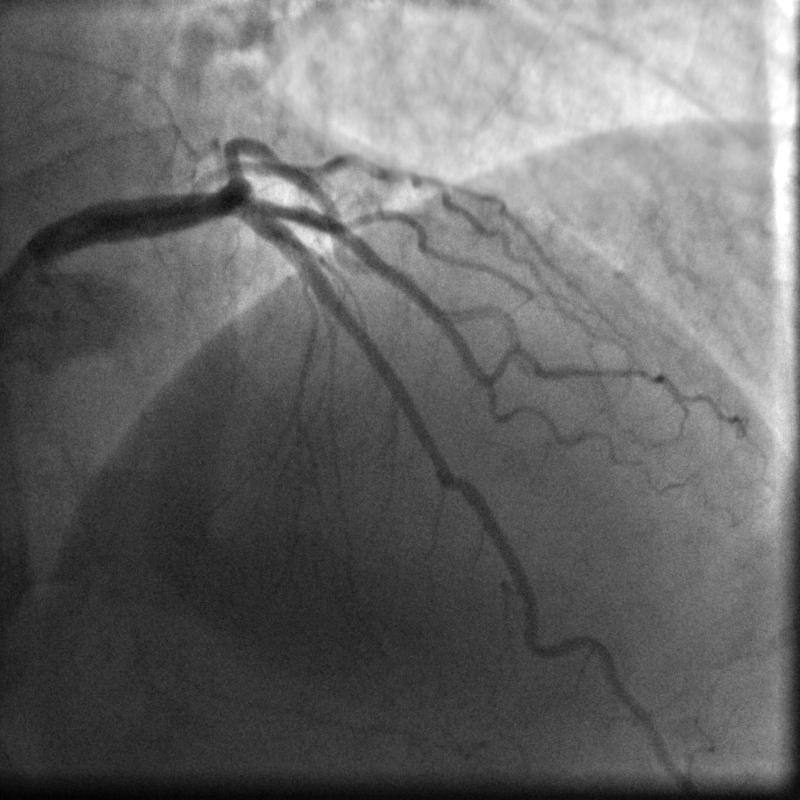Stenosis: (441, 444, 465, 511)
